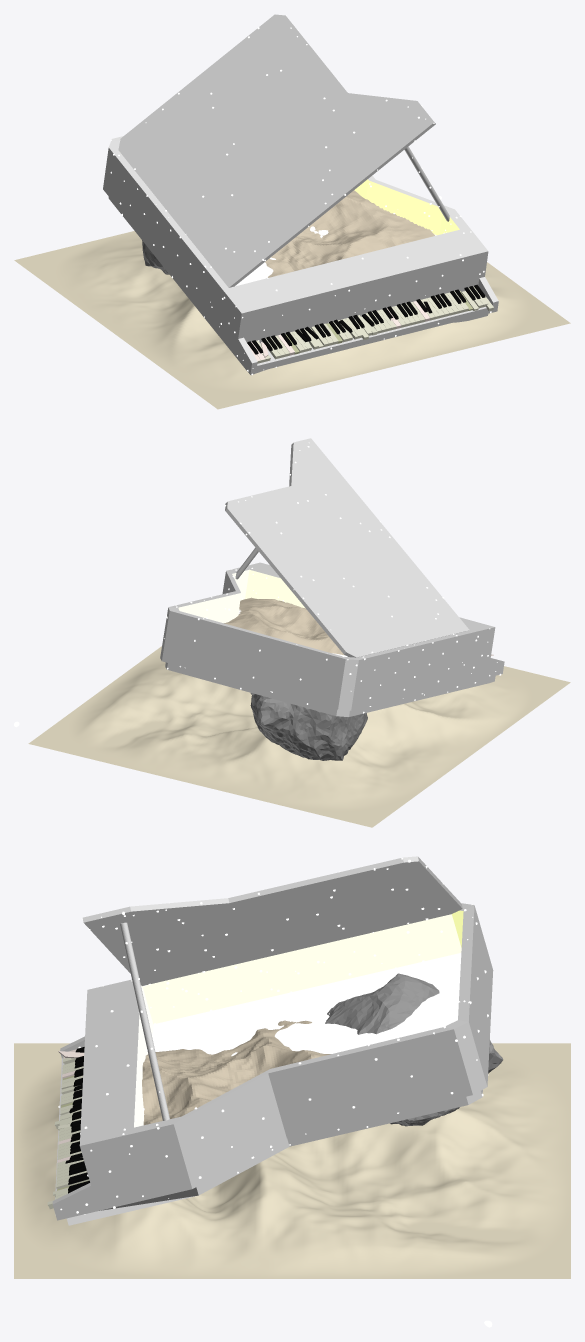
Rendered from BrokenPiano_Jul27.fbx.
3 views of the same model, one above another, from view 1: azimuth 30°, elevation 25°; view 2: azimuth 150°, elevation 25°; view 3: azimuth 270°, elevation 25° (orthographic). The views are drawn at different scales.
Visible parts, largest first — view 1: Cube.003, Landscape.004, Sand; view 2: Cube.003, Landscape.004, Rock, Sand; view 3: Cube.003, Landscape.004, Sand, Rock.
Boxes of the visible parts, left/top/right/bottom form: Cube.003: left=103, top=14, right=498, bottom=375; Landscape.004: left=14, top=231, right=570, bottom=409; Sand: left=265, top=190, right=434, bottom=277; Cube.003: left=160, top=438, right=504, bottom=716; Landscape.004: left=28, top=646, right=570, bottom=827; Rock: left=250, top=694, right=367, bottom=760; Sand: left=224, top=597, right=344, bottom=655; Cube.003: left=52, top=856, right=493, bottom=1225; Landscape.004: left=14, top=1043, right=570, bottom=1278; Sand: left=142, top=1020, right=330, bottom=1125; Rock: left=325, top=973, right=503, bottom=1126.
Size of the model in its own units: 326 by 199 by 289.
